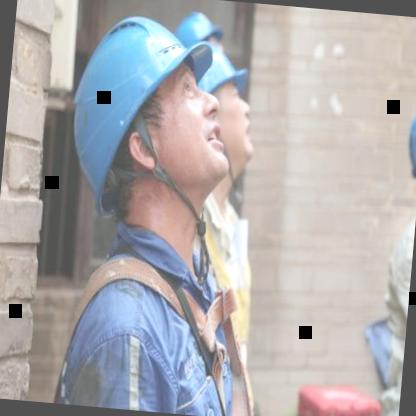helmet: (53, 0, 261, 263), (167, 0, 229, 84)
